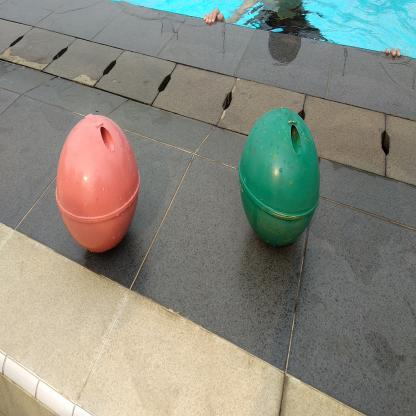green_buoy: (232, 107, 326, 259)
red_buoy: (53, 107, 145, 263)
